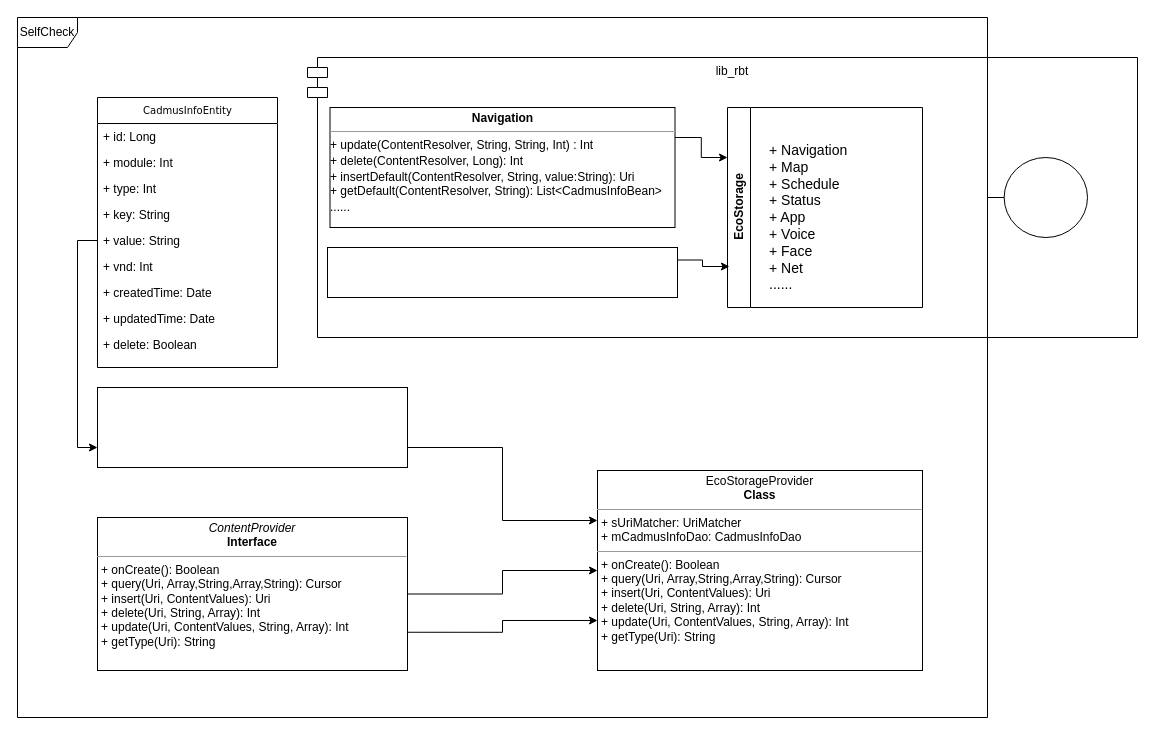
Some shapes in this 1155 by 735 pixel diagram are drawn without their labels. The shapes that lost their labels are listed below. From the top down, each one's box as (x1, y1, x2, y2) in pixels, then its label:
(986, 156, 1088, 238): 三方App
(326, 246, 678, 298): Map ......
(96, 386, 408, 468): CadmusDataBase Class + cadmusInfoDao: CadmusInfoDao + entities: CadmusInfoEntity
